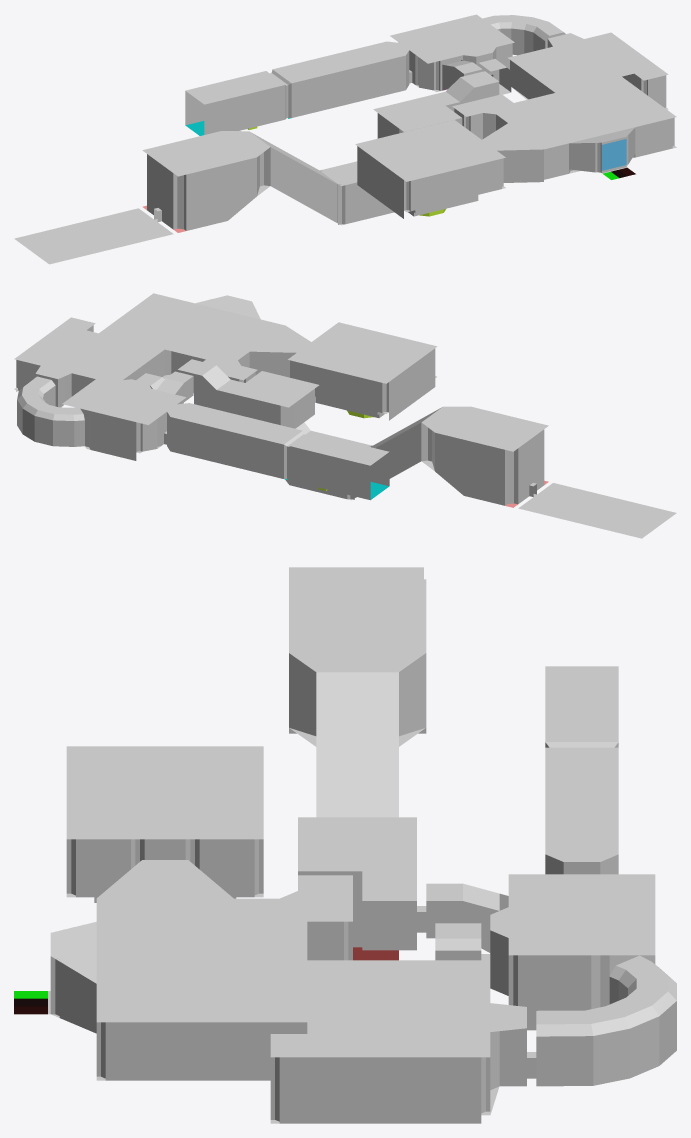
File: Inside Castle Area 3.obj
The picture shows the model from 3 angles, top to bottom: view 1: azimuth 30°, elevation 25°; view 2: azimuth 150°, elevation 25°; view 3: azimuth 270°, elevation 25°; orthographic projection. The views are drawn at different scales.
Bounding box in the file's own units: 30308 × 4506 × 14818.
